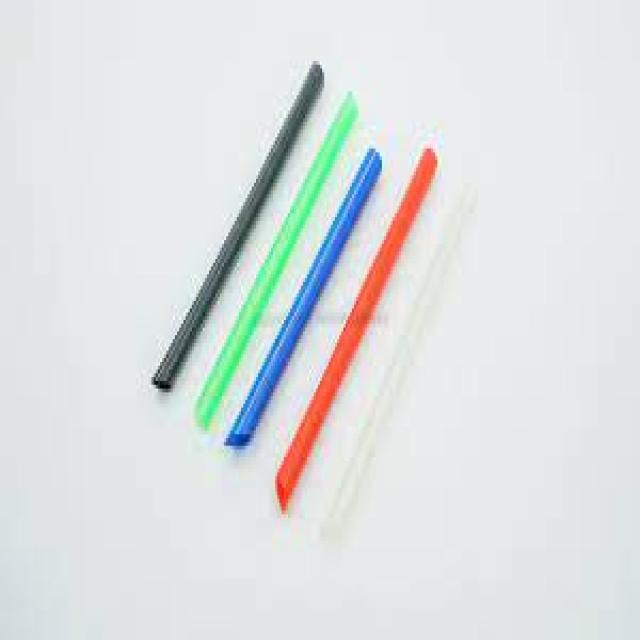straw: (276, 150, 434, 510), (152, 65, 322, 387), (196, 94, 358, 425), (226, 147, 379, 445)
